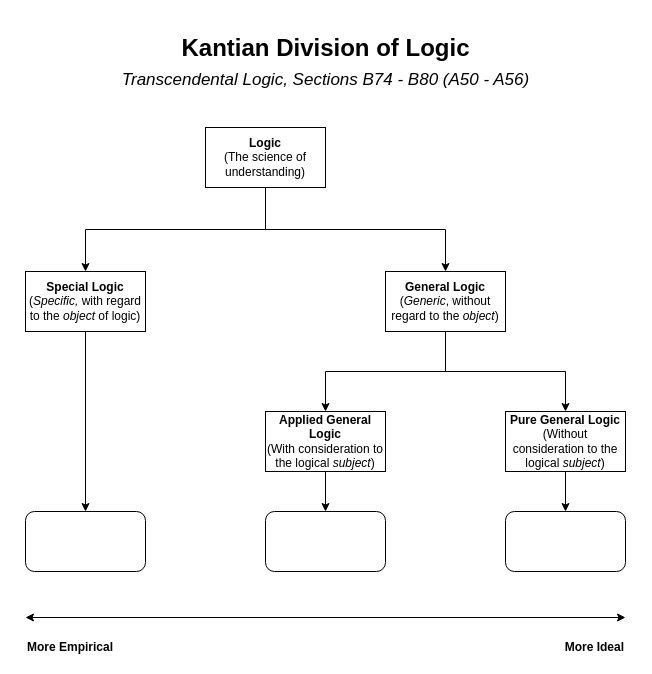
Image size: 652x674. Some labels were removed from this diagram. Each missing label, with the centre of its shape:
Examples: Mathematical logic, predicate logic, etc.: (x=565, y=541)
Examples: Physical Science, Engineering, Law, etc.: (x=85, y=541)
Examples: Psychology: (x=325, y=541)
